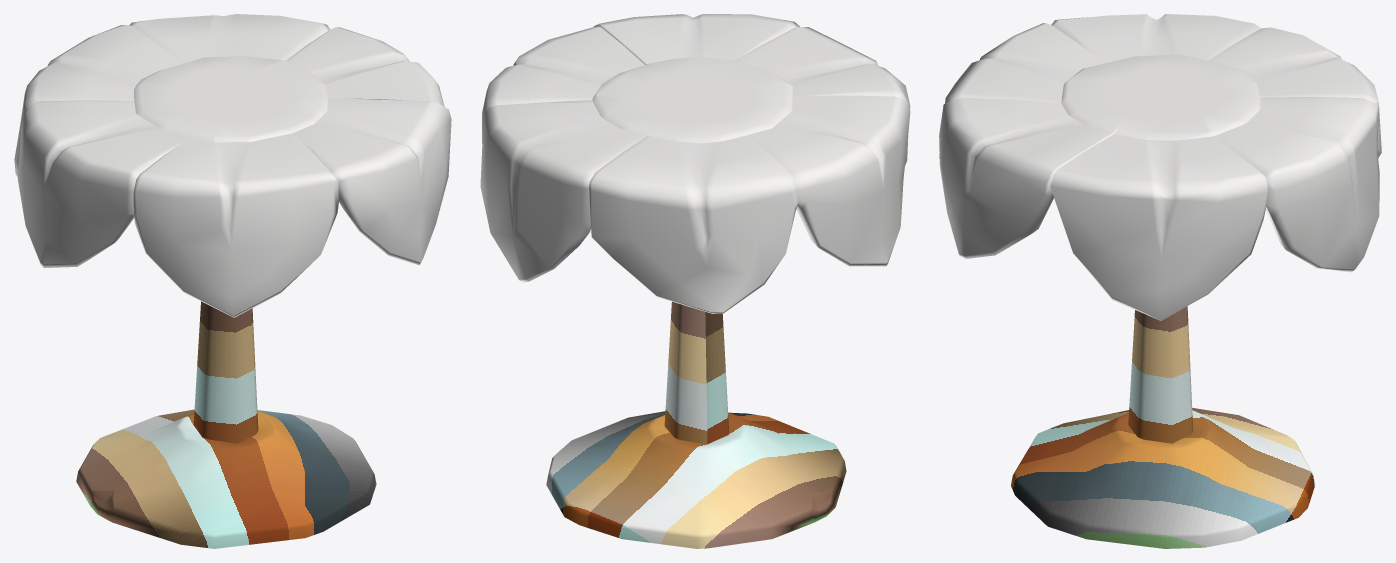
File: CharSkyKid_Prop_SunflowerBarTable.glb
The picture shows the model from 3 angles, left to right: view 1: azimuth 30°, elevation 25°; view 2: azimuth 150°, elevation 25°; view 3: azimuth 270°, elevation 25°; orthographic projection.
Visible parts, largest first — view 1: CharSkyKid_Prop_SunflowerBarTable; view 2: CharSkyKid_Prop_SunflowerBarTable; view 3: CharSkyKid_Prop_SunflowerBarTable.
Part boxes in pixels (<box>): CharSkyKid_Prop_SunflowerBarTable: <box>14,14,451,548</box>; CharSkyKid_Prop_SunflowerBarTable: <box>480,14,910,548</box>; CharSkyKid_Prop_SunflowerBarTable: <box>939,14,1381,548</box>.
Bounding box in the file's own units: 0.8986 × 0.8644 × 0.8843.
1 material, 1 textured.
